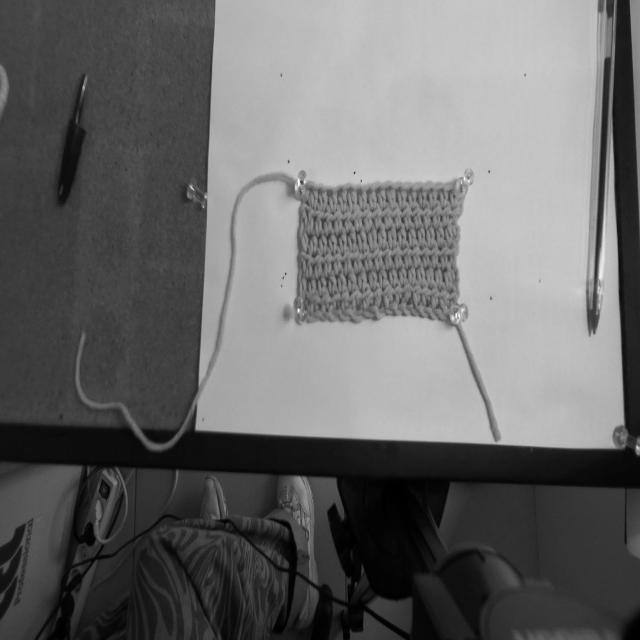ch: (342, 309, 366, 321), (432, 307, 450, 321), (368, 306, 387, 319), (333, 309, 351, 322), (423, 307, 439, 319), (406, 303, 421, 315), (324, 311, 340, 322), (355, 310, 376, 318), (398, 304, 411, 316), (313, 311, 330, 320), (389, 305, 402, 316), (416, 305, 429, 316), (378, 307, 394, 315), (307, 316, 319, 322)
hdc: (418, 181, 436, 208), (338, 182, 353, 214), (376, 180, 392, 210), (386, 180, 402, 210), (397, 182, 413, 210), (408, 182, 424, 210), (429, 182, 444, 211), (438, 240, 452, 271), (439, 181, 455, 208), (359, 243, 373, 273), (347, 184, 362, 212), (319, 186, 335, 212), (341, 246, 355, 275), (350, 204, 364, 233), (357, 183, 371, 212), (368, 181, 382, 210), (321, 206, 334, 237), (429, 199, 442, 230), (329, 185, 343, 213), (410, 202, 423, 232), (349, 283, 363, 310), (370, 202, 383, 231), (361, 202, 373, 233), (382, 280, 395, 308), (310, 183, 324, 209), (322, 247, 333, 280), (312, 247, 323, 280), (303, 244, 313, 280), (351, 244, 363, 274), (332, 205, 343, 237), (361, 283, 374, 310), (314, 202, 324, 237), (331, 246, 343, 275), (298, 223, 309, 254), (319, 288, 332, 314), (401, 278, 413, 306), (371, 243, 383, 271), (420, 240, 432, 268), (342, 204, 353, 234), (382, 240, 393, 270), (429, 240, 440, 270), (421, 201, 432, 231), (401, 201, 412, 231), (390, 202, 402, 229), (392, 241, 403, 270), (381, 203, 393, 229), (392, 279, 403, 307), (420, 279, 431, 307), (410, 239, 421, 267), (438, 282, 449, 309), (309, 288, 320, 315), (387, 222, 398, 249), (411, 279, 421, 308), (430, 281, 440, 310), (337, 264, 347, 293), (402, 240, 412, 269), (299, 203, 309, 232), (339, 285, 350, 311), (440, 201, 451, 227), (367, 224, 377, 252), (373, 282, 383, 309), (347, 225, 357, 252), (444, 218, 453, 248), (347, 266, 357, 292), (357, 226, 367, 252), (318, 268, 327, 296), (358, 265, 367, 293), (328, 227, 337, 255), (426, 222, 435, 250), (416, 262, 426, 287), (444, 262, 452, 293), (398, 223, 407, 250), (368, 265, 377, 291), (377, 223, 386, 249), (426, 259, 434, 288), (388, 263, 398, 286), (417, 222, 425, 250), (339, 225, 346, 256), (328, 270, 337, 294), (310, 229, 318, 256), (378, 265, 387, 289), (299, 272, 307, 298), (435, 263, 443, 289), (436, 222, 444, 248), (408, 221, 416, 247), (398, 264, 407, 287), (308, 271, 316, 295), (320, 229, 327, 256), (331, 288, 339, 311), (308, 209, 314, 235), (408, 268, 416, 287)
